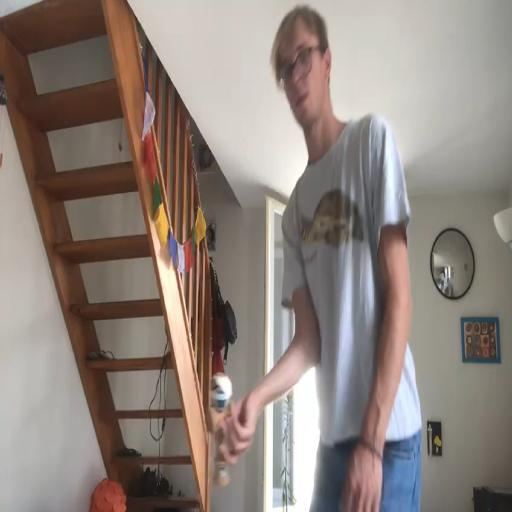kendama_ball: (210, 372, 233, 408)
